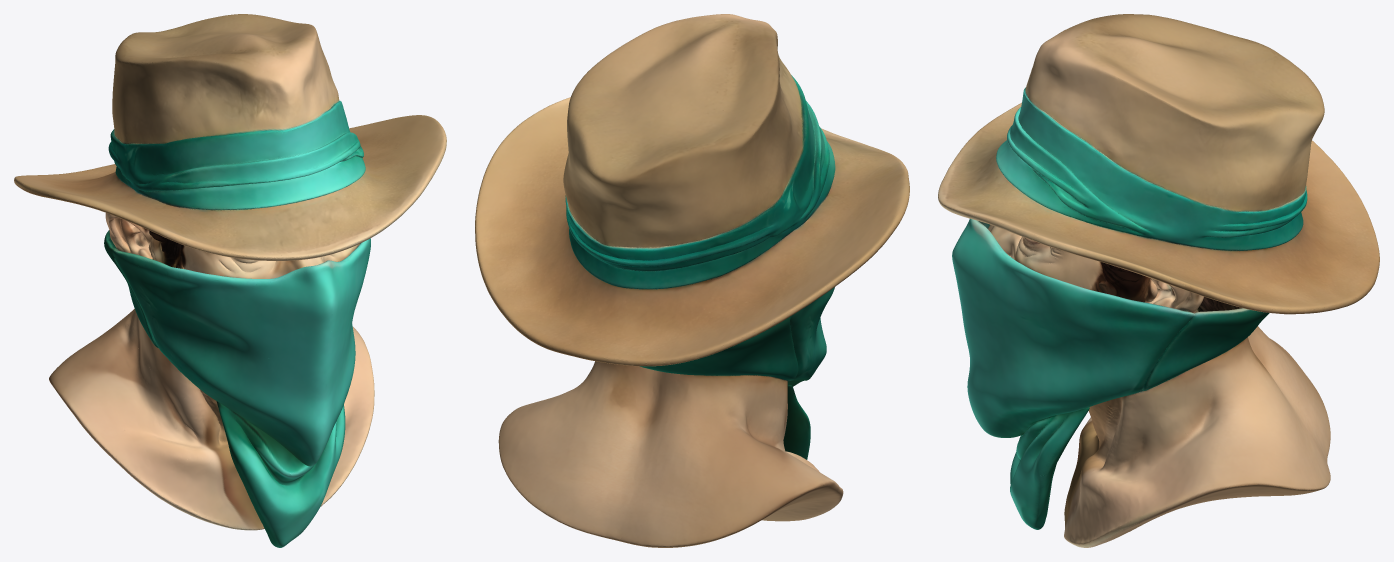
File: player_head_wrap.glb
3 views of the same model, side by side, from view 1: azimuth 30°, elevation 25°; view 2: azimuth 150°, elevation 25°; view 3: azimuth 270°, elevation 25° (orthographic). The views are drawn at different scales.
Visible parts, largest first — view 1: model; view 2: model; view 3: model.
Boxes of the visible parts, left/top/right/bottom form: model: left=14, top=14, right=446, bottom=547; model: left=475, top=14, right=909, bottom=547; model: left=938, top=14, right=1379, bottom=547.
Size of the model in its own units: 1.56 by 1.9 by 1.52.
Materials: 1 (1 with a texture image).
